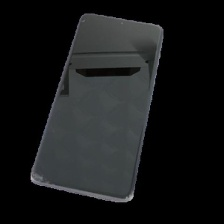phone: (26, 8, 166, 206)
